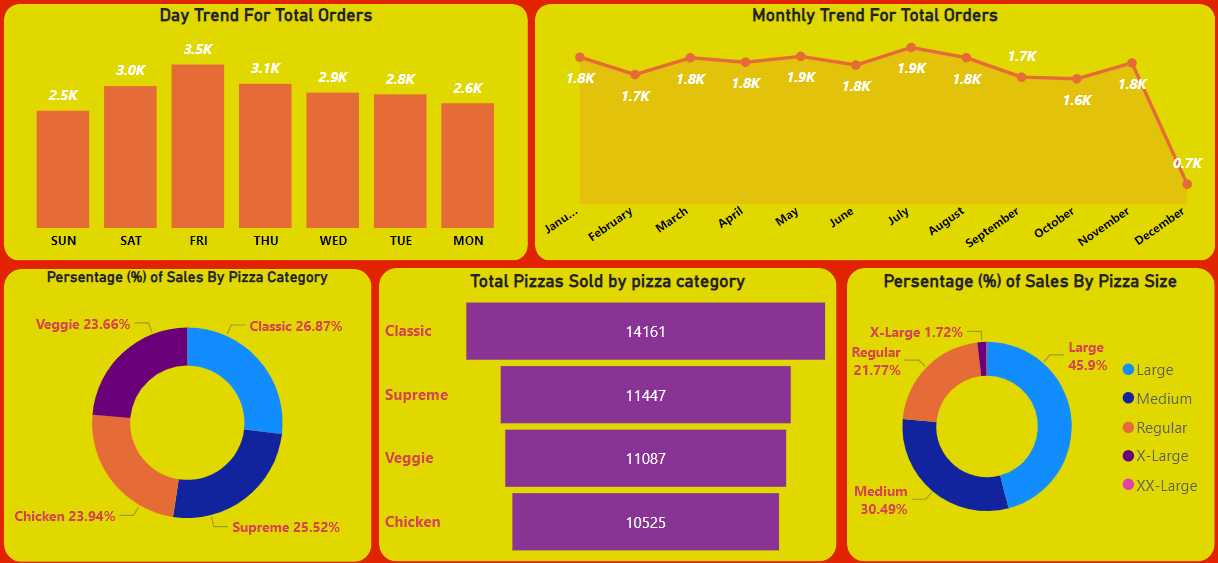

Layout of this report page (visuals, bound fields, positions):
{"tool":"powerbi","page":{"name":"HOME","canvas":[1280,720],"ordinal":0},"visuals":[{"type":"shape","box":[3.6,6.4,1271.8,66.4],"z":0},{"type":"shape","box":[3.6,79.1,201.8,633.6],"z":1000},{"type":"shape","box":[211.8,79.1,1063.6,137.3],"z":2000},{"type":"shape","box":[211.8,222.7,460,225.5],"z":3000},{"type":"shape","box":[678.2,222.7,597.3,225.5],"z":4000},{"type":"shape","box":[211.8,455.5,322.7,257.3],"z":5000},{"type":"shape","box":[540.8,455.2,401.7,257.8],"z":6000},{"type":"shape","box":[952.2,455.2,322.9,257.8],"z":7000},{"type":"textbox","box":[400.9,3.6,515.5,72.7],"z":8000},{"type":"image","box":[323.6,4.5,70.9,70.9],"z":9000},{"type":"cardVisual","fields":{"Data":["pizza_sales.Total Revenue","pizza_sales.Avg Order Value","pizza_sales.Total Pizzas Sold","pizza_sales.Total Order","pizza_sales.Avg Pizzas Per Order"]},"box":[211.8,79.1,1063.6,137.3],"z":10000},{"type":"image","box":[295.5,87.3,41.8,43.6],"z":11000},{"type":"image","box":[513.6,89.1,40.9,40],"z":12000},{"type":"image","box":[722.7,89.1,40.9,40],"z":13000},{"type":"image","box":[942.7,89.1,40.9,40],"z":14000},{"type":"image","box":[1149.1,89.1,40.9,40],"z":15000},{"type":"donutChart","title":"Persentage (%) of Sales By Pizza Category","fields":{"Category":["pizza_sales.pizza_category"],"Y":["Sum(pizza_sales.total_price)"]},"box":[212,455.2,321.9,256.8],"z":16000},{"type":"donutChart","title":"Persentage (%) of Sales By Pizza Size","fields":{"Y":["Sum(pizza_sales.total_price)"],"Category":["pizza_sales.pizza_size"]},"box":[952.2,456.2,321.9,256.8],"z":17000},{"type":"funnel","title":"Total Pizzas Sold by pizza category","fields":{"Category":["pizza_sales.pizza_category"],"Y":["pizza_sales.Total Pizzas Sold"]},"box":[540.8,456.2,401.7,256.8],"z":18000},{"type":"areaChart","title":"Monthly Trend For Total Orders","fields":{"Y":["pizza_sales.Total Order"],"Category":["pizza_sales.order_date.Variation.Date Hierarchy.Month"]},"box":[677.9,223,597.1,225.7],"z":19000},{"type":"columnChart","title":"Day Trend For Total Orders","fields":{"Category":["pizza_sales.Order Day"],"Y":["pizza_sales.Total Order"]},"box":[212,222.7,460.1,225.7],"z":20000},{"type":"slicer","fields":{"Values":["pizza_sales.pizza_category"]},"box":[872.8,7.9,157.2,65],"z":21000},{"type":"slicer","fields":{"Values":["pizza_sales.order_date"]},"box":[1047.5,0,203.7,72.9],"z":22000},{"type":"textbox","box":[3.5,223,202,36],"z":23000},{"type":"textbox","box":[3.5,255.5,202,160.7],"z":24000},{"type":"textbox","box":[3.5,454.8,202,36],"z":25000},{"type":"textbox","box":[3.5,490.8,202,160.7],"z":26000},{"type":"pageNavigator","box":[21.1,98.3,166.8,40.4],"z":26001},{"type":"pageNavigator","box":[21.1,147.5,166.8,42.1],"z":26002},{"type":"image","box":[153.7,101,34.2,34.2],"z":26003},{"type":"image","box":[3.5,12.3,54.4,54.4],"z":26004}]}

Visuals, with their boxes on the page's 1280x720 design canvas (x1, y1, x2, y2). These are canvas units, not pixel positions in the 1218x563 screenshot, which may show the page scaled, cropped or inside an application window:
shape: (4, 6, 1275, 73)
shape: (4, 79, 205, 713)
shape: (212, 79, 1275, 216)
shape: (212, 223, 672, 448)
shape: (678, 223, 1276, 448)
shape: (212, 456, 534, 713)
shape: (541, 455, 942, 713)
shape: (952, 455, 1275, 713)
textbox: (401, 4, 916, 76)
image: (324, 4, 394, 75)
cardVisual - pizza_sales.Total Revenue x pizza_sales.Avg Order Value: (212, 79, 1275, 216)
image: (296, 87, 337, 131)
image: (514, 89, 554, 129)
image: (723, 89, 764, 129)
image: (943, 89, 984, 129)
image: (1149, 89, 1190, 129)
"Persentage (%) of Sales By Pizza Category" donutChart: (212, 455, 534, 712)
"Persentage (%) of Sales By Pizza Size" donutChart: (952, 456, 1274, 713)
"Total Pizzas Sold by pizza category" funnel: (541, 456, 942, 713)
"Monthly Trend For Total Orders" areaChart: (678, 223, 1275, 449)
"Day Trend For Total Orders" columnChart: (212, 223, 672, 448)
slicer - pizza_sales.pizza_category: (873, 8, 1030, 73)
slicer - pizza_sales.order_date: (1048, 0, 1251, 73)
textbox: (4, 223, 206, 259)
textbox: (4, 256, 206, 416)
textbox: (4, 455, 206, 491)
textbox: (4, 491, 206, 652)
pageNavigator: (21, 98, 188, 139)
pageNavigator: (21, 148, 188, 190)
image: (154, 101, 188, 135)
image: (4, 12, 58, 67)
